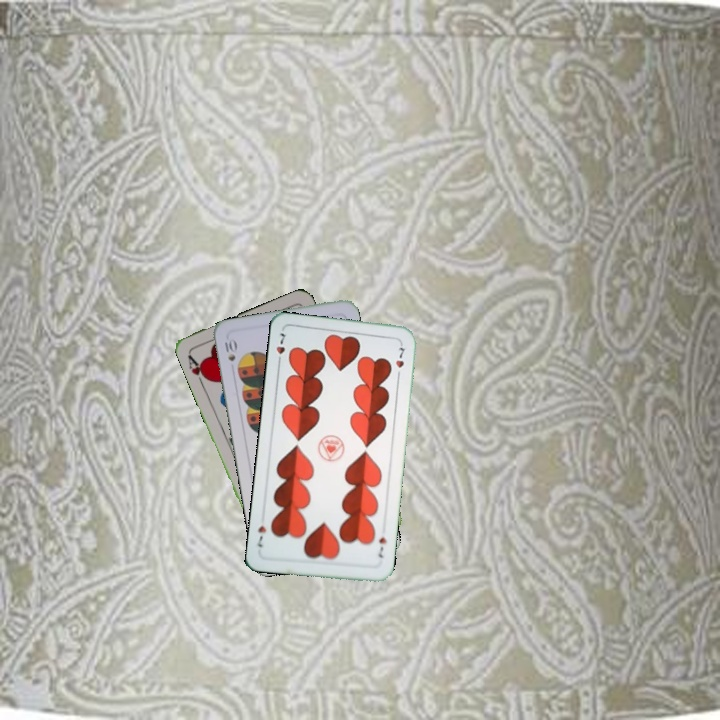H7: (272, 329, 288, 367), (374, 533, 389, 560)
HA: (184, 350, 211, 388)
S10: (220, 335, 238, 363)
